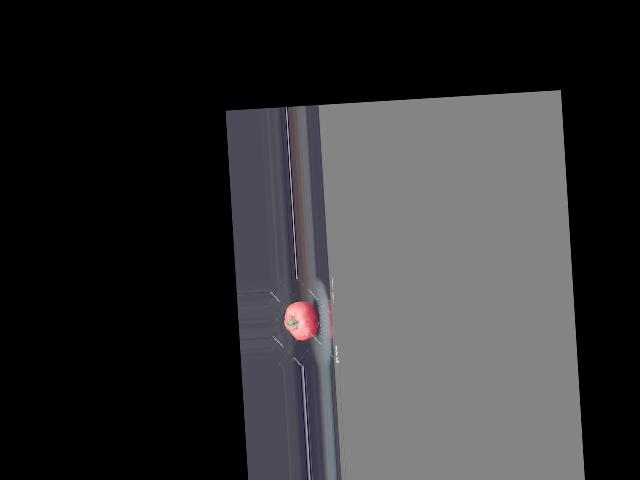tomato: (282, 299, 319, 341)
